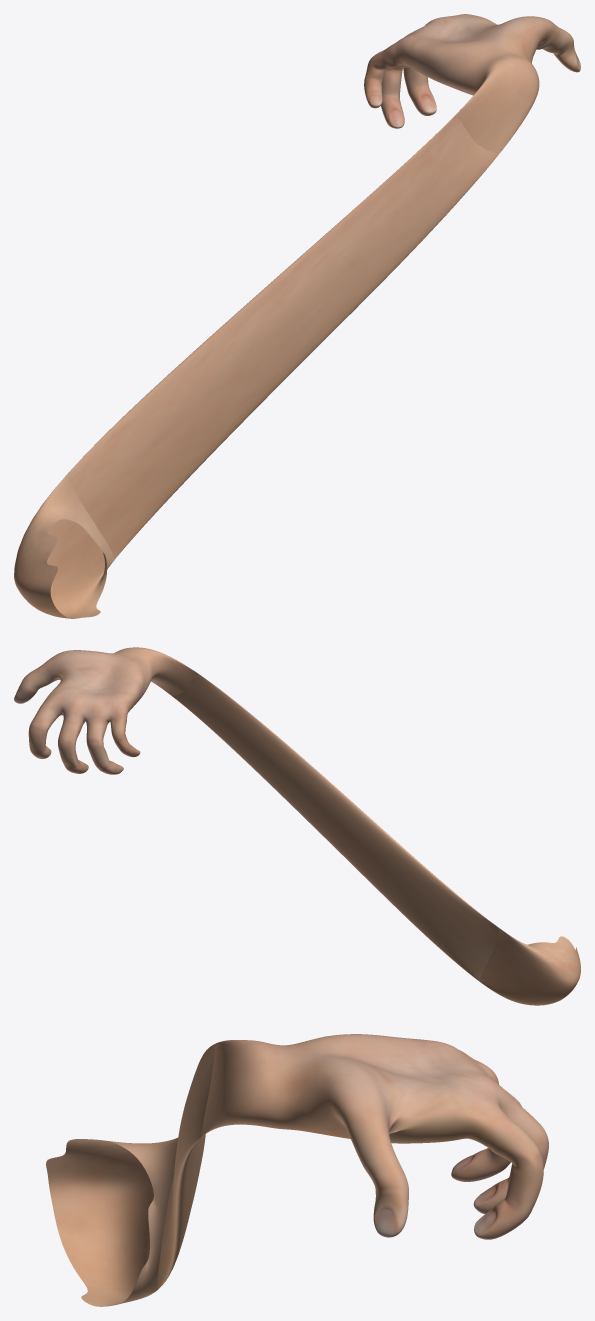
File: SM_AnatomicalLeft.fbx
3 renders of one model, top to bottom at view 1: azimuth 30°, elevation 25°; view 2: azimuth 150°, elevation 25°; view 3: azimuth 270°, elevation 25°, orthographic. The views are drawn at different scales.
Visible parts, largest first — view 1: SM_AnatomicalLeft; view 2: SM_AnatomicalLeft; view 3: SM_AnatomicalLeft.
Part boxes in pixels (x1,y1,x2,y2): SM_AnatomicalLeft: (14, 14, 580, 618); SM_AnatomicalLeft: (14, 647, 580, 1005); SM_AnatomicalLeft: (46, 1034, 548, 1306).
Bounding box in the file's own units: 50.56 × 22.5 × 29.69.
